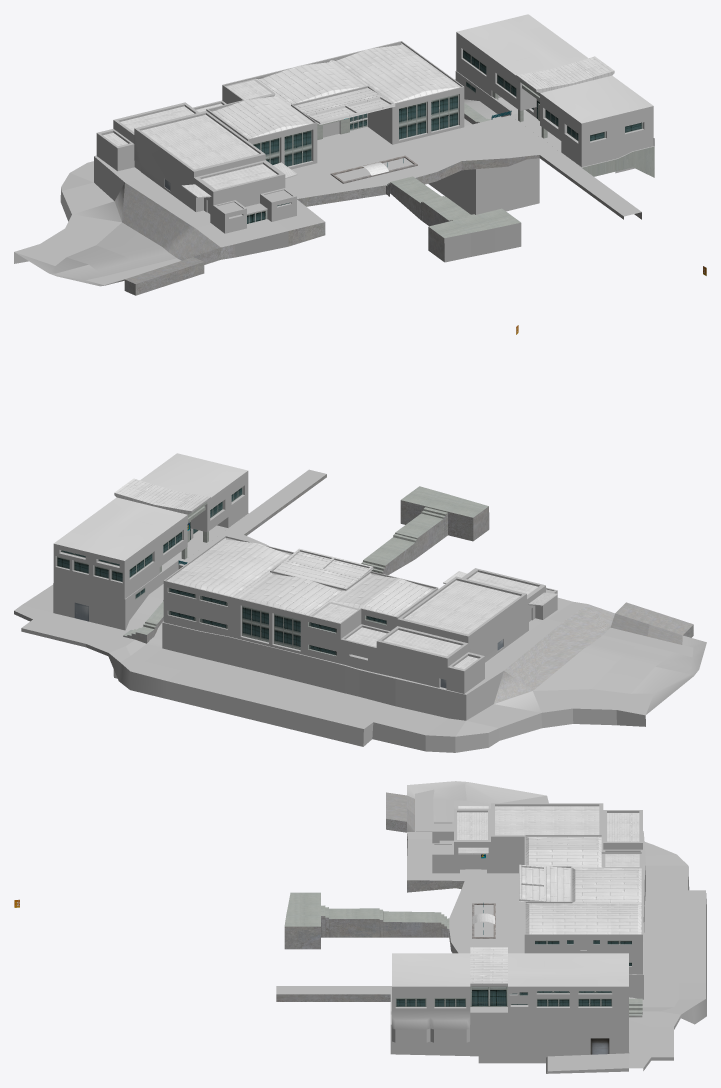
Rendered from SECTOR_ADMINISTRATIVO.fbx.
3 renders of one model, top to bottom at view 1: azimuth 30°, elevation 25°; view 2: azimuth 150°, elevation 25°; view 3: azimuth 270°, elevation 25°, orthographic. The views are drawn at different scales.
Parts seen in each view (by area): view 1: piso_rectoria, polySurface2457, Rectoria, polySurface2451, polySurface2365, polySurface2452, polySurface2455, polySurface2456, polySurface2454, polySurface2592; view 2: piso_rectoria, polySurface2457, Rectoria, polySurface2451, polySurface2452, polySurface2455, polySurface2365, polySurface2456; view 3: piso_rectoria, Rectoria, polySurface2457, polySurface2451, polySurface2455, polySurface2456, polySurface2365.
Boxes of the visible parts, x1=… form: piso_rectoria: x1=14, y1=71, x2=654, y2=295; polySurface2457: x1=206, y1=41, x2=464, y2=169; Rectoria: x1=456, y1=14, x2=654, y2=173; polySurface2451: x1=113, y1=100, x2=296, y2=233; polySurface2365: x1=428, y1=99, x2=539, y2=214; polySurface2452: x1=96, y1=128, x2=134, y2=171; polySurface2455: x1=294, y1=88, x2=381, y2=114; polySurface2456: x1=312, y1=99, x2=395, y2=124; polySurface2454: x1=306, y1=96, x2=395, y2=123; polySurface2592: x1=330, y1=155, x2=417, y2=183; piso_rectoria: x1=14, y1=469, x2=706, y2=752; polySurface2457: x1=163, y1=535, x2=438, y2=663; Rectoria: x1=53, y1=453, x2=248, y2=604; polySurface2451: x1=340, y1=568, x2=557, y2=689; polySurface2452: x1=447, y1=652, x2=484, y2=693; polySurface2455: x1=273, y1=559, x2=359, y2=588; polySurface2365: x1=113, y1=584, x2=163, y2=678; polySurface2456: x1=290, y1=551, x2=372, y2=577; piso_rectoria: x1=276, y1=781, x2=706, y2=1073; Rectoria: x1=392, y1=947, x2=628, y2=1043; polySurface2457: x1=524, y1=835, x2=642, y2=974; polySurface2451: x1=432, y1=803, x2=642, y2=873; polySurface2455: x1=544, y1=866, x2=570, y2=901; polySurface2456: x1=519, y1=867, x2=543, y2=901; polySurface2365: x1=478, y1=997, x2=643, y2=1063.
Bounding box in the file's own units: 2072 × 447 × 2203.
